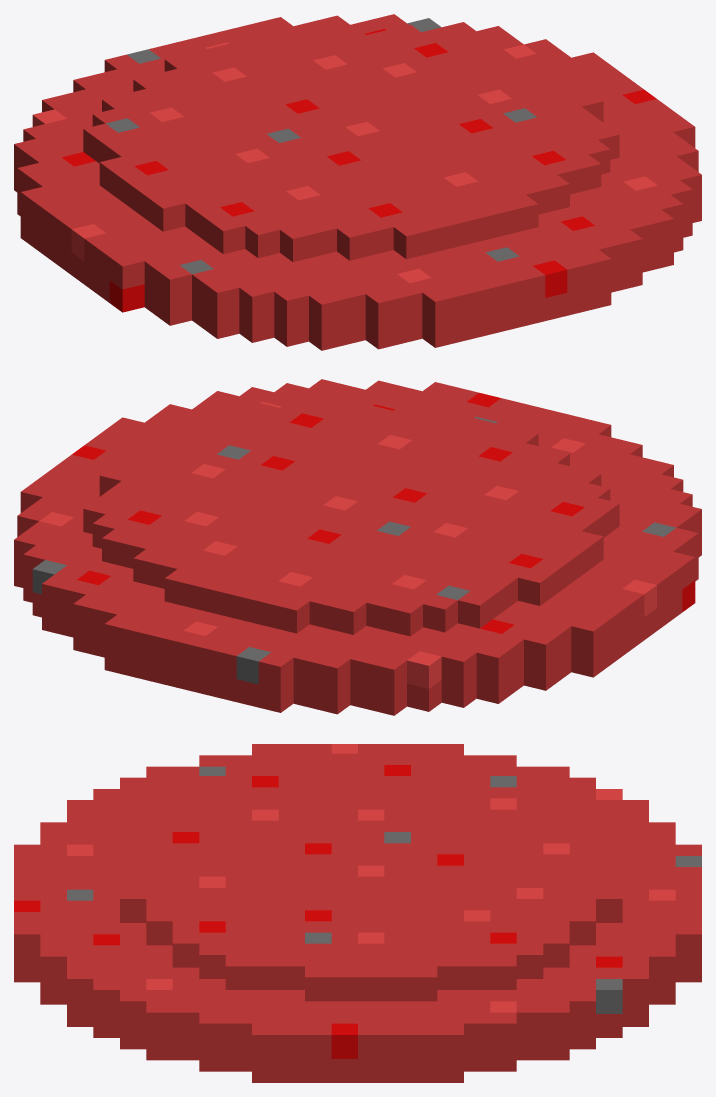
The model's file is filete_cortado.obj.
3 renders of one model, top to bottom at view 1: azimuth 30°, elevation 25°; view 2: azimuth 150°, elevation 25°; view 3: azimuth 270°, elevation 25°, orthographic. The views are drawn at different scales.
Bounding box in the file's own units: 2.6 × 0.4 × 2.6.
